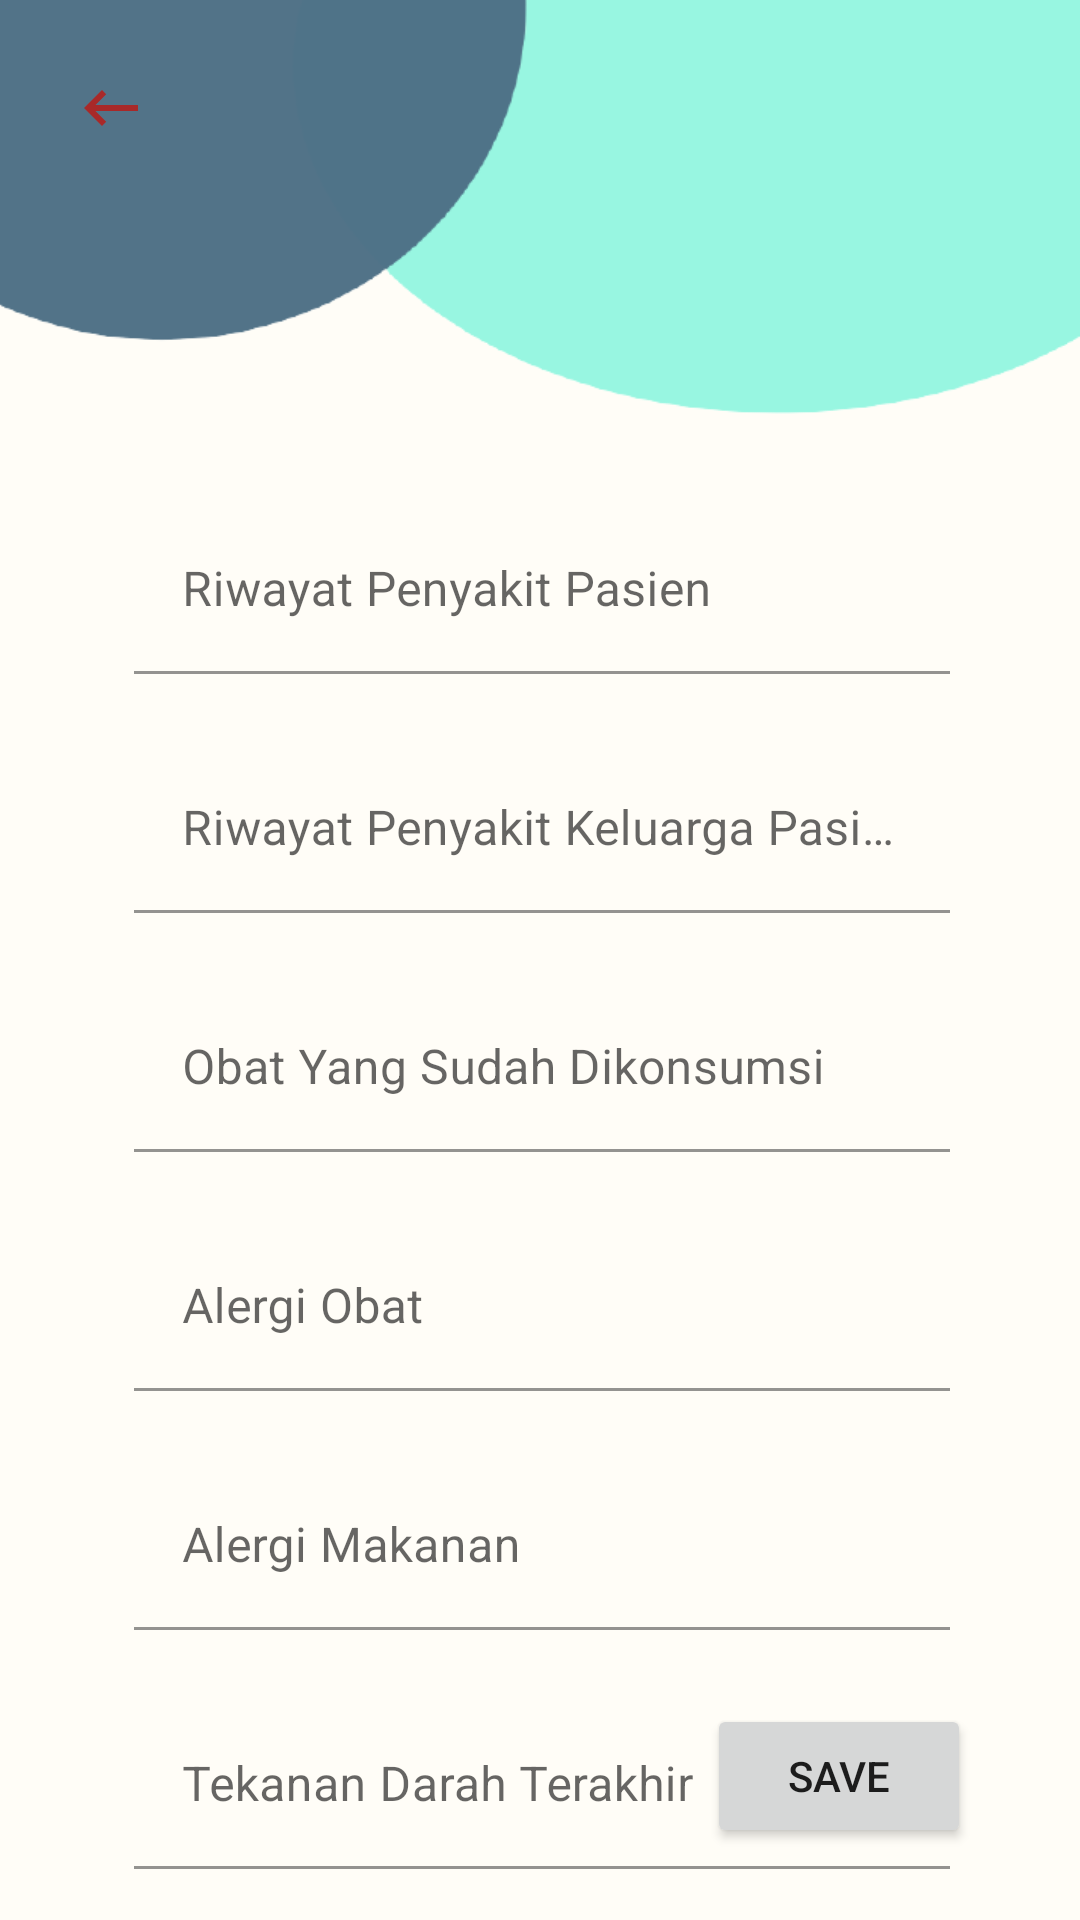

Point at icon controls on the screen. Image size 1080w x 1920h, points as point (x, y).
arrow back: point (111, 108)
